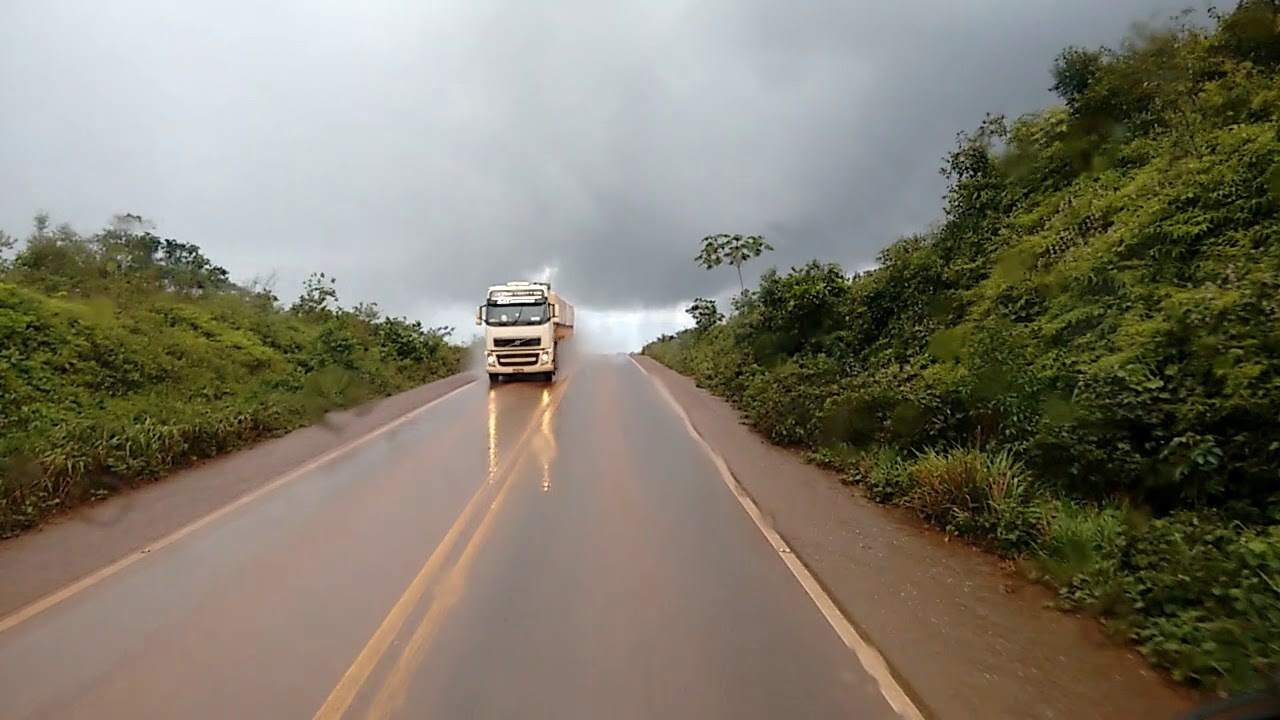truck: (476, 284, 574, 384)
